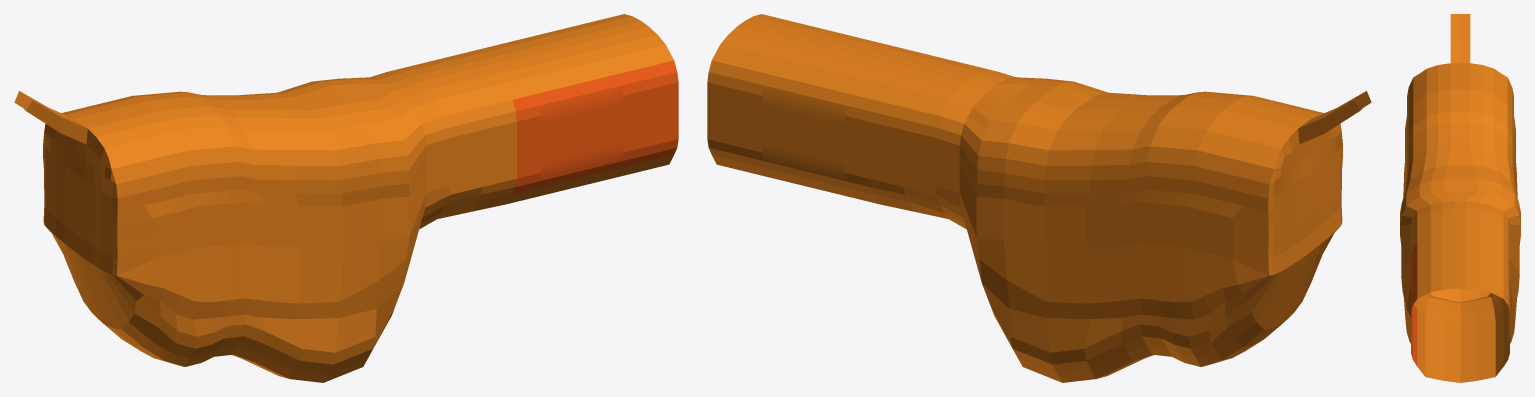
Rendered from Invisible Wall.FBX.
3 renders of one model, left to right at view 1: azimuth 30°, elevation 25°; view 2: azimuth 150°, elevation 25°; view 3: azimuth 270°, elevation 25°, orthographic. The views are drawn at different scales.
Parts seen in each view (by area): view 1: Drum cover003; view 2: Drum cover003; view 3: Drum cover003.
Part boxes in pixels (x1,y1,x2,y2): Drum cover003: [14, 14, 678, 382]; Drum cover003: [707, 14, 1371, 382]; Drum cover003: [1400, 14, 1520, 382].
Bounding box in the file's own units: 70.19 × 36.81 × 16.34.
Materials: 2 (2 with a texture image).
